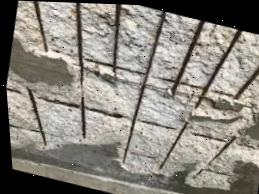exposed_rebar: (124, 11, 165, 163), (194, 30, 242, 108), (171, 20, 204, 96), (159, 122, 188, 168), (76, 3, 85, 137), (26, 86, 46, 145), (206, 135, 236, 165), (233, 65, 259, 99), (33, 1, 48, 52), (112, 4, 121, 72), (38, 96, 79, 108), (84, 106, 126, 117), (192, 168, 231, 178), (139, 119, 176, 129), (192, 132, 225, 142), (9, 123, 40, 132), (85, 57, 112, 67), (116, 66, 144, 74), (180, 81, 203, 89), (210, 89, 233, 96), (154, 76, 175, 82), (6, 87, 20, 93), (46, 133, 59, 137)
spalling: (6, 1, 259, 190)
